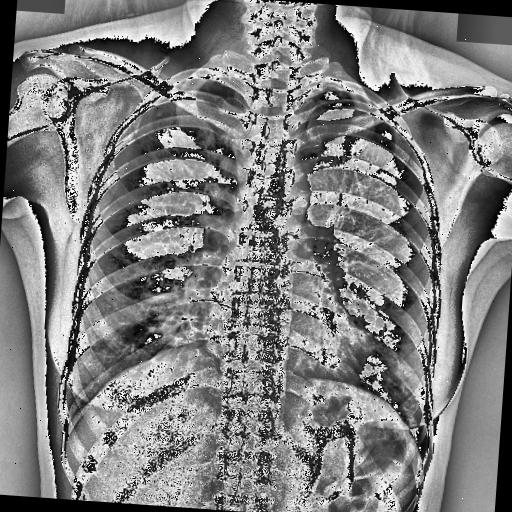6- Infiltration: (152, 286, 209, 354), (387, 354, 428, 428)
7- Lung Opacity: (148, 265, 216, 353), (154, 107, 168, 117)
9- Other lesion: (148, 265, 216, 353), (151, 290, 209, 348), (344, 275, 390, 341), (338, 283, 390, 336)
